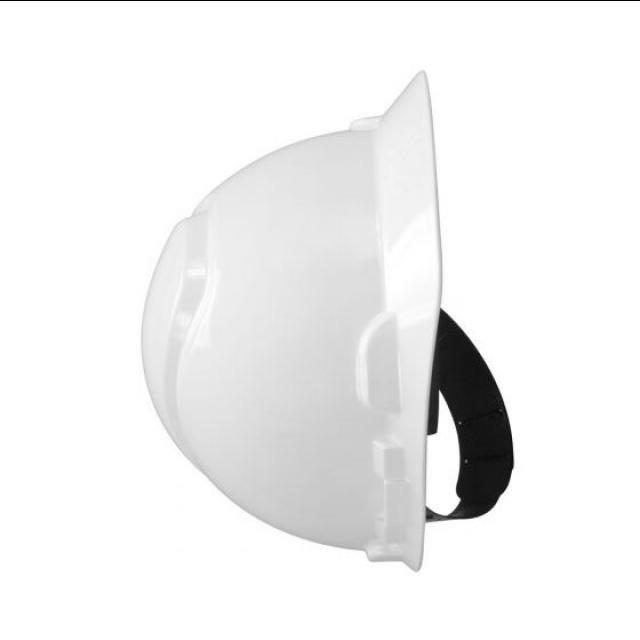construction helmet: (141, 70, 515, 570)
